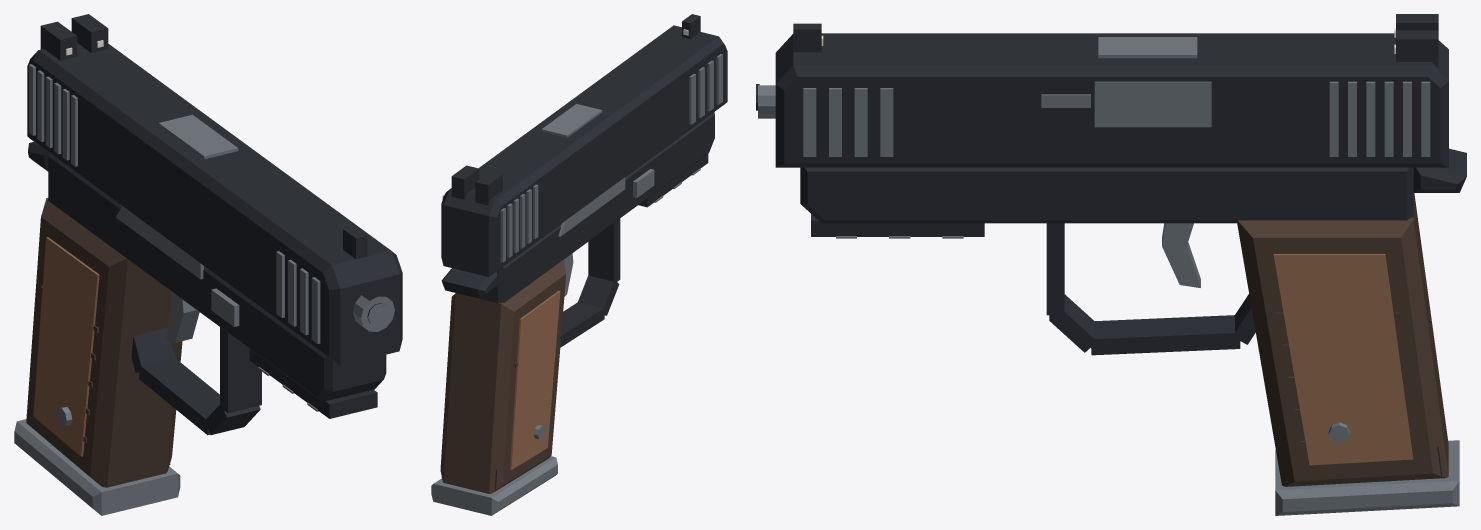
Rendered from pistol_guard_hd.glb.
3 renders of one model, left to right at view 1: azimuth 30°, elevation 25°; view 2: azimuth 150°, elevation 25°; view 3: azimuth 270°, elevation 25°, orthographic. The views are drawn at different scales.
Parts seen in each view (by area): view 1: pistol_guard_hd_mesh, SLIDE, MAGAZINE, TRIGGER; view 2: pistol_guard_hd_mesh, SLIDE, MAGAZINE; view 3: pistol_guard_hd_mesh, SLIDE, MAGAZINE, TRIGGER.
Boxes of the visible parts, x1,y1,x2,y2 form: pistol_guard_hd_mesh: (26, 142, 394, 487); SLIDE: (27, 14, 402, 365); MAGAZINE: (14, 419, 180, 515); TRIGGER: (165, 290, 199, 342); pistol_guard_hd_mesh: (440, 112, 714, 493); SLIDE: (441, 14, 727, 276); MAGAZINE: (431, 456, 557, 515); pistol_guard_hd_mesh: (756, 84, 1466, 486); SLIDE: (775, 14, 1448, 167); MAGAZINE: (1275, 440, 1459, 515); TRIGGER: (1162, 223, 1200, 287).
Size of the model in its own units: 0.0344 by 0.146 by 0.2005.
1 material, 1 textured.
